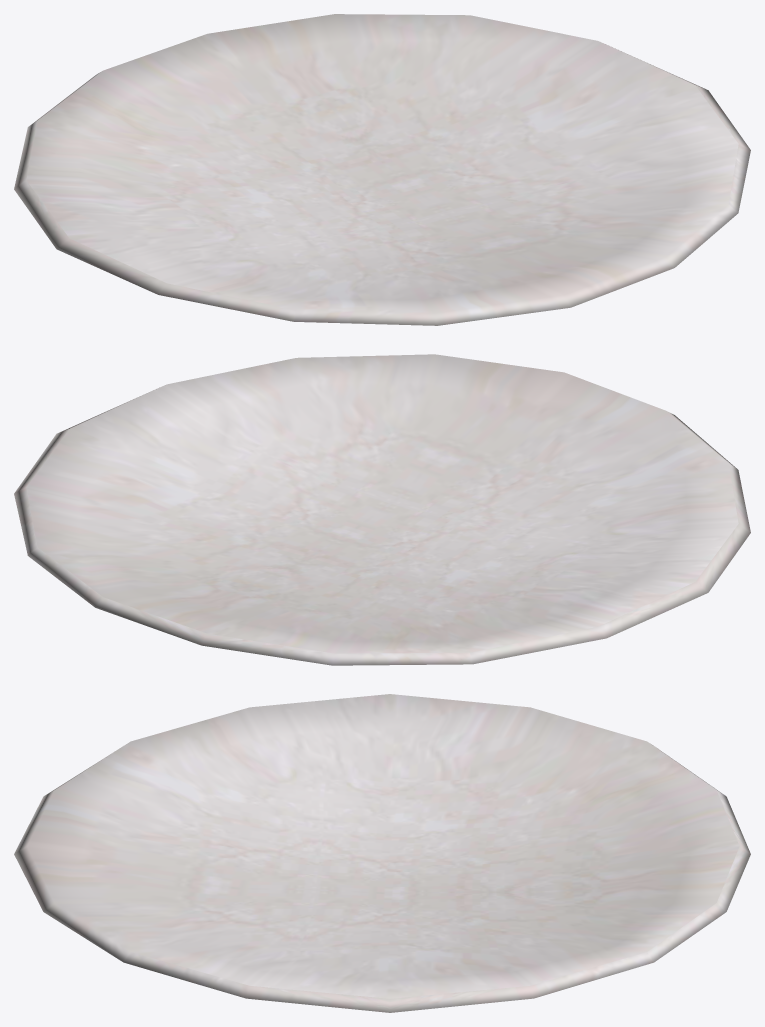
File: simple_plate.obj
3 views of the same model, one above another, from view 1: azimuth 30°, elevation 25°; view 2: azimuth 150°, elevation 25°; view 3: azimuth 270°, elevation 25° (orthographic).
Visible parts, largest first — view 1: plate:pCube1; view 2: plate:pCube1; view 3: plate:pCube1.
Boxes of the visible parts, x1=… form: plate:pCube1: x1=14, y1=14, x2=750, y2=325; plate:pCube1: x1=14, y1=354, x2=750, y2=665; plate:pCube1: x1=14, y1=694, x2=750, y2=1012.
Bounding box in the file's own units: 7.55 × 0.4022 × 7.41.
1 material, 1 textured.
